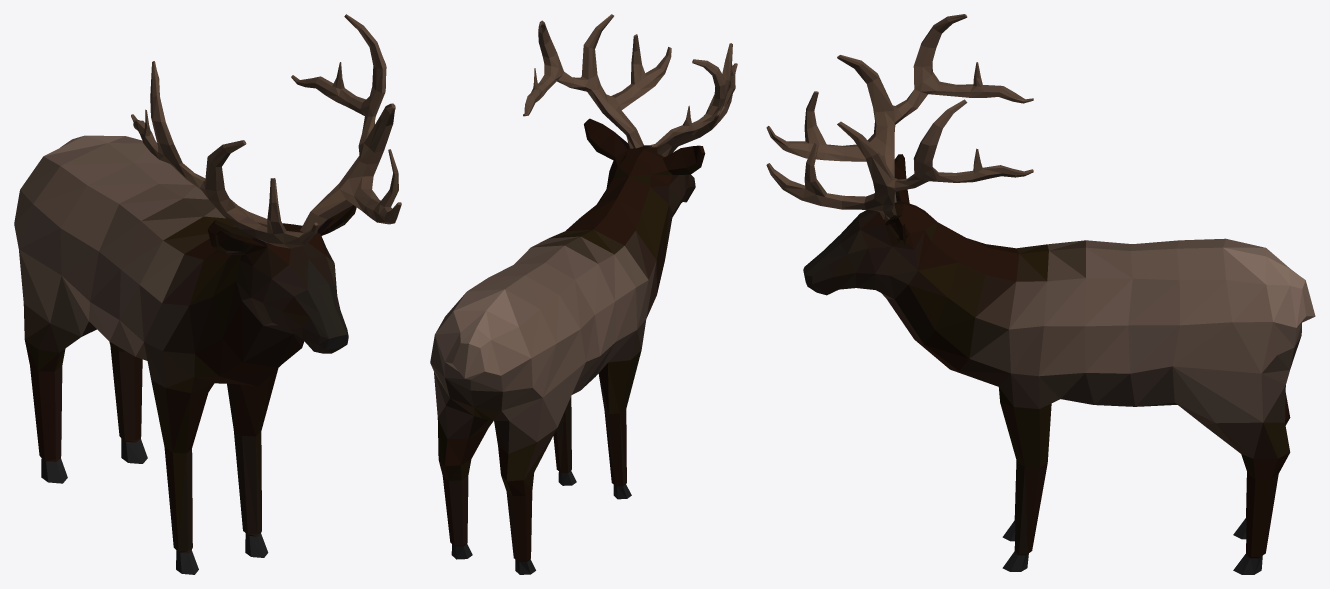
File: sambar.glb
3 views of the same model, side by side, from view 1: azimuth 30°, elevation 25°; view 2: azimuth 150°, elevation 25°; view 3: azimuth 270°, elevation 25° (orthographic). The views are drawn at different scales.
Visible parts, largest first — view 1: sambar; view 2: sambar; view 3: sambar.
Part boxes in pixels (<box>): sambar: <box>14,14,401,574</box>; sambar: <box>430,14,737,574</box>; sambar: <box>766,14,1315,574</box>.
Bounding box in the file's own units: 7.04 × 15.74 × 15.79.
